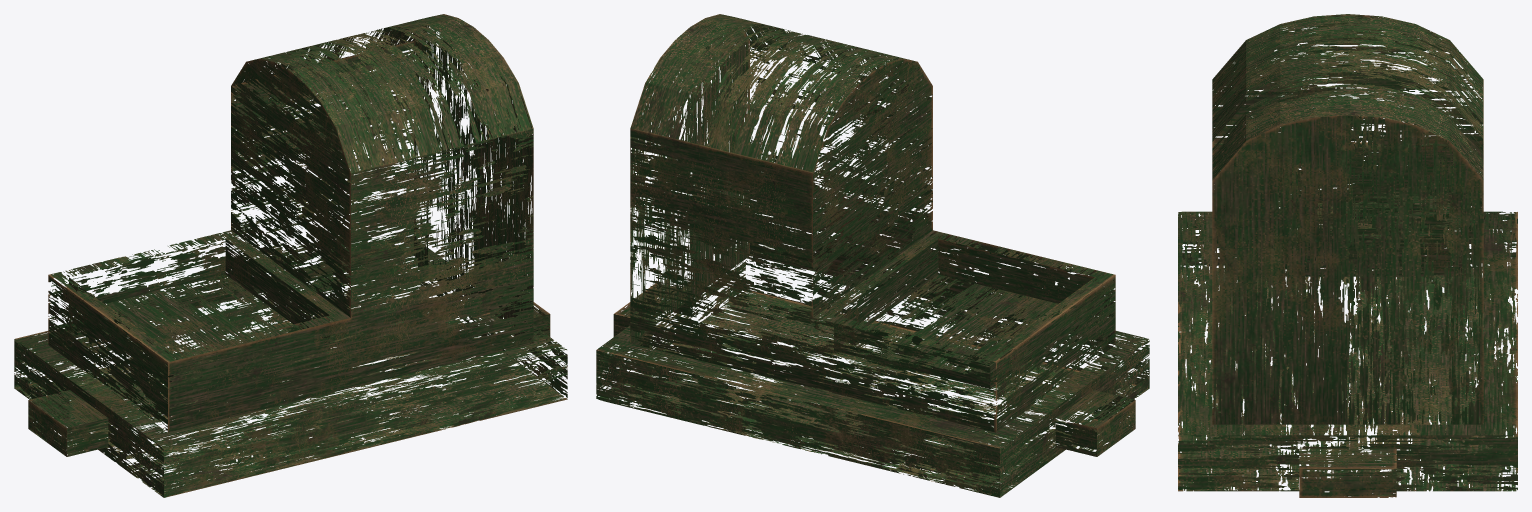
Rendered from TrainBody.obj.
3 renders of one model, left to right at view 1: azimuth 30°, elevation 25°; view 2: azimuth 150°, elevation 25°; view 3: azimuth 270°, elevation 25°, orthographic. The views are drawn at different scales.
Visible parts, largest first — view 1: Mainbody; view 2: Mainbody; view 3: Mainbody.
Boxes of the visible parts, <box> form: Mainbody: <box>14,14,567,497</box>; Mainbody: <box>596,14,1149,497</box>; Mainbody: <box>1178,14,1517,497</box>.
Size of the model in its own units: 17.07 by 10.93 by 9.2.
